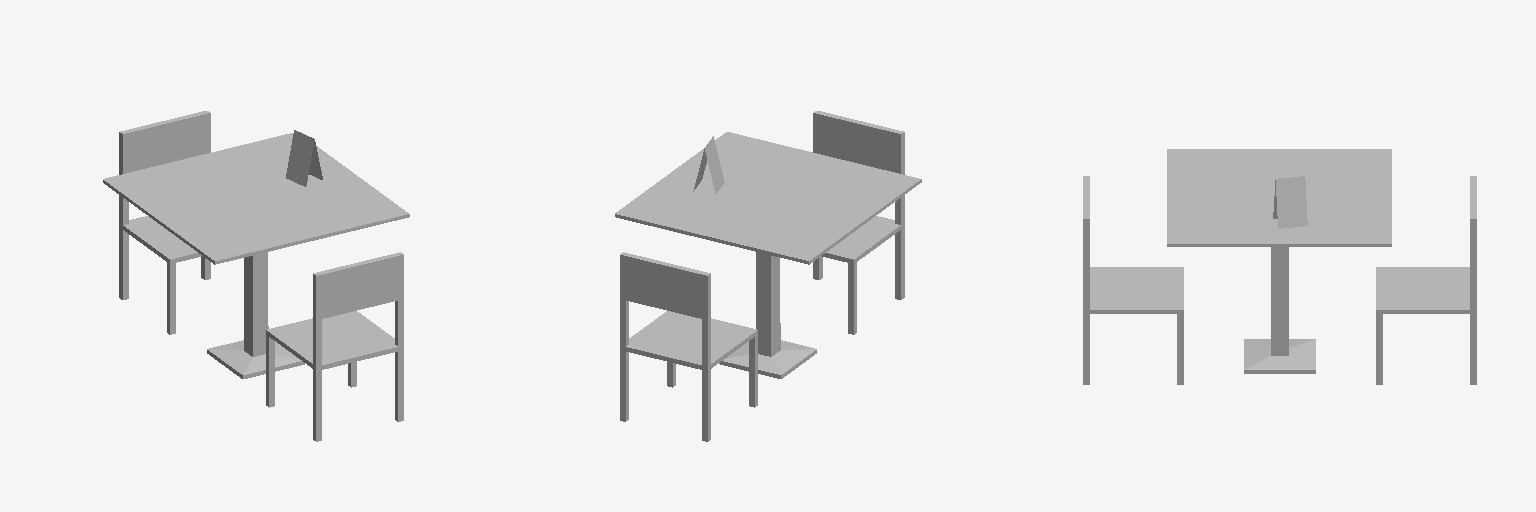
File: table.obj
3 renders of one model, left to right at view 1: azimuth 30°, elevation 25°; view 2: azimuth 150°, elevation 25°; view 3: azimuth 270°, elevation 25°, orthographic.
Visible parts, largest first — view 1: Tavolino_02.002, Cube.030, Cube.029, Cartoncino_03.001; view 2: Tavolino_02.002, Cube.029, Cube.030, Cartoncino_03.001; view 3: Tavolino_02.002, Cube.029, Cube.030, Cartoncino_03.001.
Boxes of the visible parts, <box> form: Tavolino_02.002: <box>103,133,409,378</box>; Cube.030: <box>266,252,403,441</box>; Cube.029: <box>119,111,210,334</box>; Cartoncino_03.001: <box>286,130,322,186</box>; Tavolino_02.002: <box>615,132,921,378</box>; Cube.029: <box>620,252,757,441</box>; Cube.030: <box>813,111,904,334</box>; Cartoncino_03.001: <box>693,136,724,193</box>; Tavolino_02.002: <box>1167,149,1391,373</box>; Cube.029: <box>1376,176,1476,384</box>; Cube.030: <box>1083,176,1183,384</box>; Cartoncino_03.001: <box>1273,176,1307,228</box>.
Bounding box in the file's own units: 0.3491 × 0.3591 × 0.612.